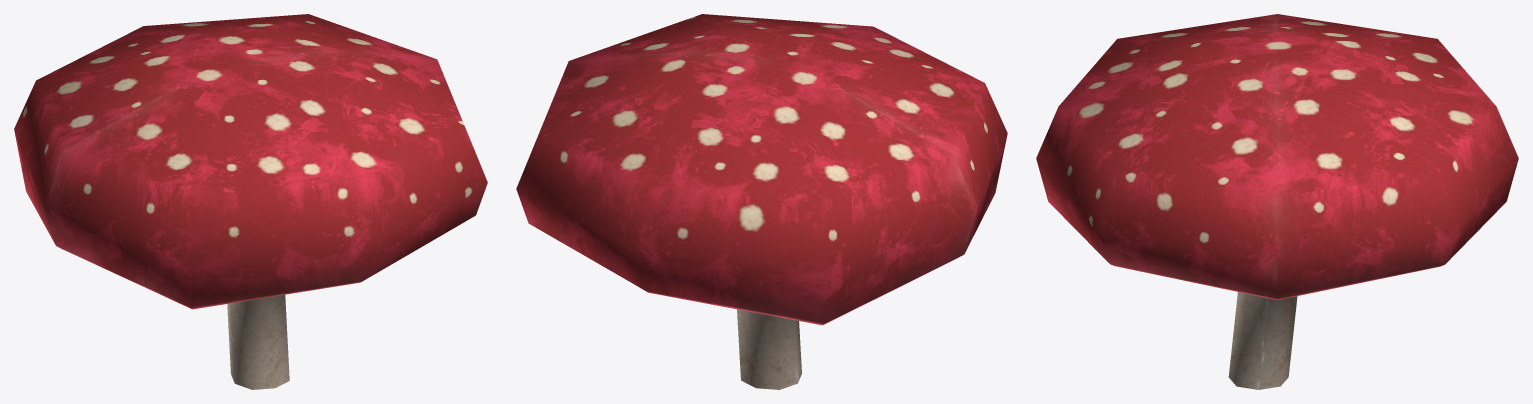
The model's file is amanita.gltf.
3 views of the same model, side by side, from view 1: azimuth 30°, elevation 25°; view 2: azimuth 150°, elevation 25°; view 3: azimuth 270°, elevation 25° (orthographic). The views are drawn at different scales.
Visible parts, largest first — view 1: Cube; view 2: Cube; view 3: Cube.
Part boxes in pixels (x1,y1,x2,y2): Cube: (14,14,487,389); Cube: (516,14,1007,389); Cube: (1036,14,1518,389).
Bounding box in the file's own units: 3.88 × 2.8 × 3.88.
1 material, 1 textured.
